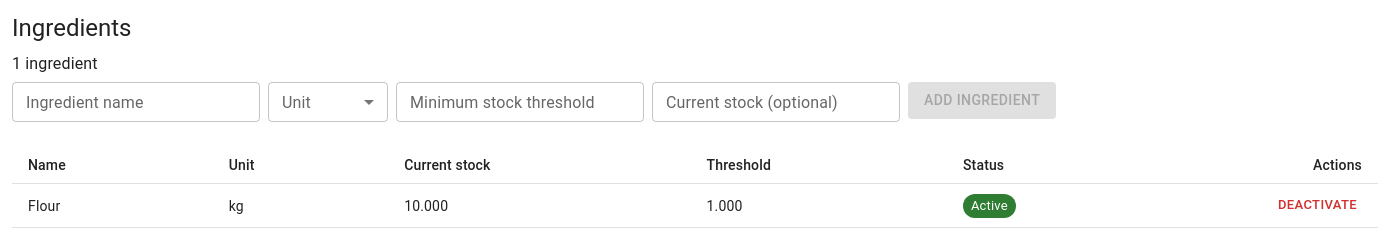
Test case: IngredientsPage › shows an Active badge and Deactivate action for an active ingredient, and can deactivate it
The image size is (1378, 245).
Expected: the text "Flour" is shown, [12,184,213,228]
Expected: the text "Active" is shown, [971,198,1008,213]
Click the button "Deactivate": click(1318, 206) [1273,190,1362,221]
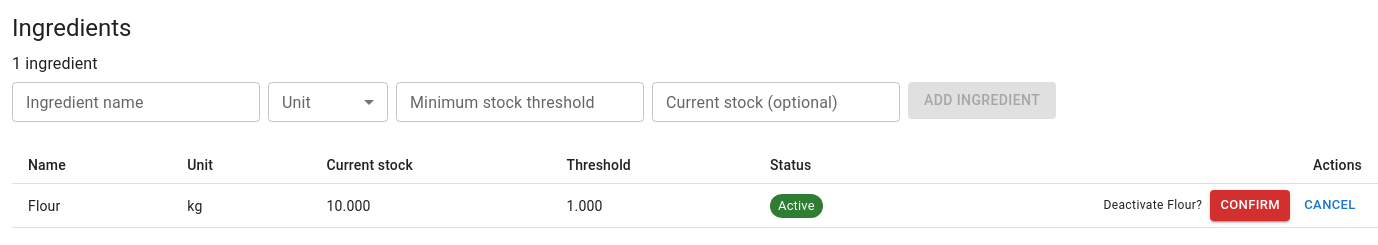
Click the button "Confirm": click(1250, 206) [1210,190,1290,221]
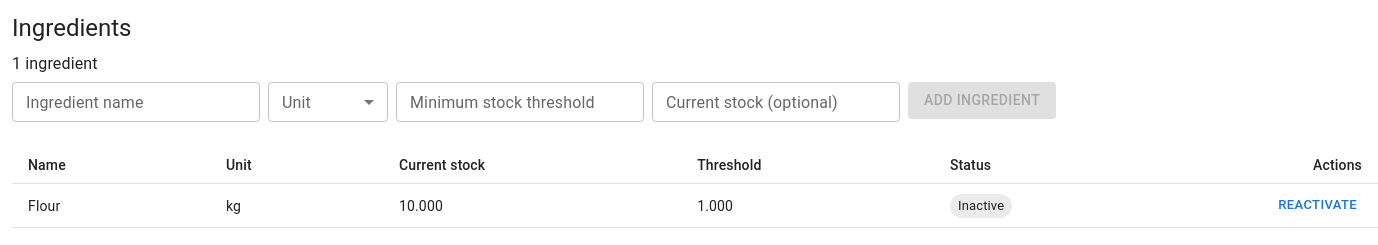
Expected: the text "Inactive" is shown, [958,198,1004,213]
